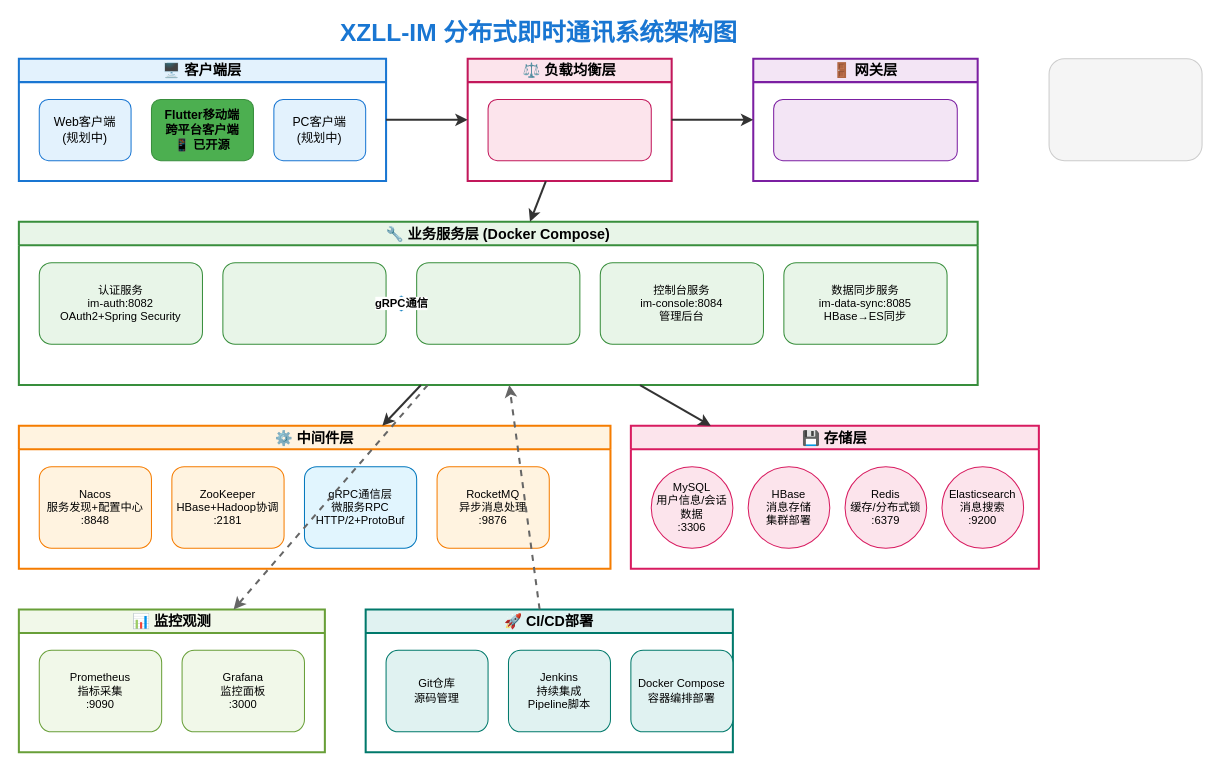
Some shapes in this 1220 by 770 pixel diagram are drawn without their labels. The centre of each missing label's shape, as x and y in pixels:
"Gateway网关 :8081 Spring Cloud Gateway" goes at pixel 865 129.
"Nginx 负载均衡（根据userId一致性hash）+反向代理 :80/:443" goes at pixel 569 129.
"业务服务 im-business:8083 核心消息处理 + gRPC" goes at pixel 498 303.
"图例说明： ━━━ 主要数据流 ┈┈┈ 监控/部署流 ⟵━━⟶ gRPC通信" goes at pixel 1125 109.
"长连接服务 im-connect:10001 Netty WebSocket + gRPC" goes at pixel 304 303.
